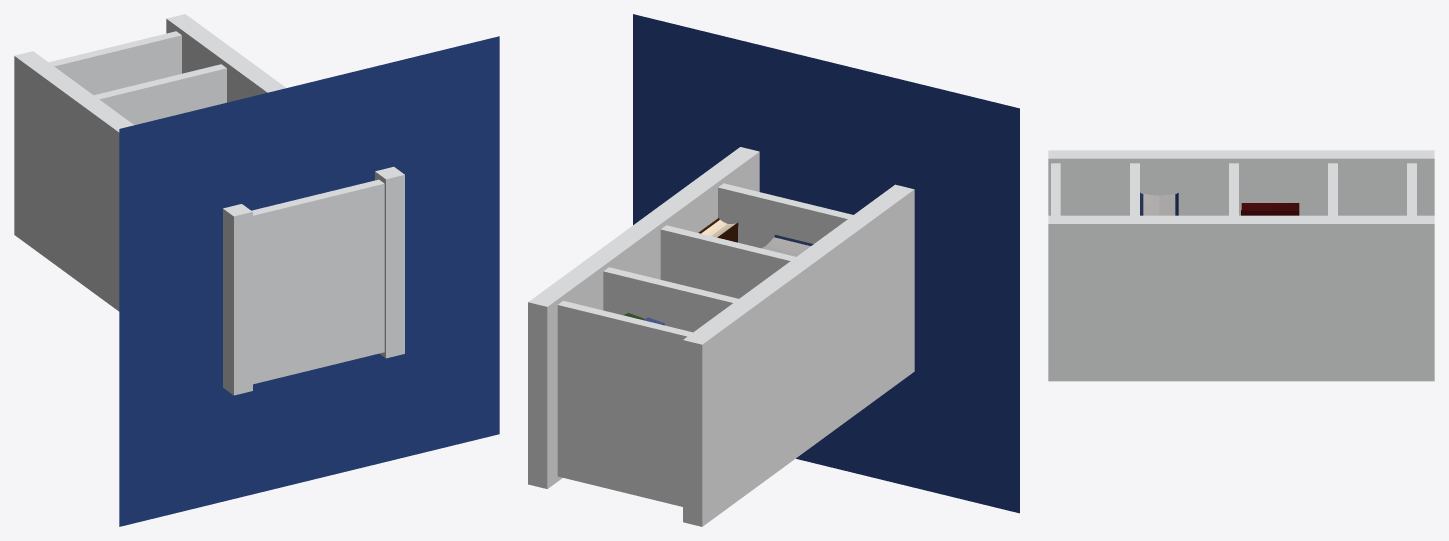
Rendered from WorkingRoom_Shelf.fbx.
3 renders of one model, left to right at view 1: azimuth 30°, elevation 25°; view 2: azimuth 150°, elevation 25°; view 3: azimuth 270°, elevation 25°, orthographic. The views are drawn at different scales.
Visible parts, largest first — view 1: Plane.283, BookShelf; view 2: BookShelf, Plane.283; view 3: BookShelf.
Boxes of the visible parts, bbox=[...] form: Plane.283: bbox=[119, 36, 499, 526]; BookShelf: bbox=[14, 14, 404, 395]; BookShelf: bbox=[528, 147, 914, 526]; Plane.283: bbox=[633, 14, 1019, 513]; BookShelf: bbox=[1048, 150, 1434, 381].
Size of the model in its own units: 2 by 2 by 2.
